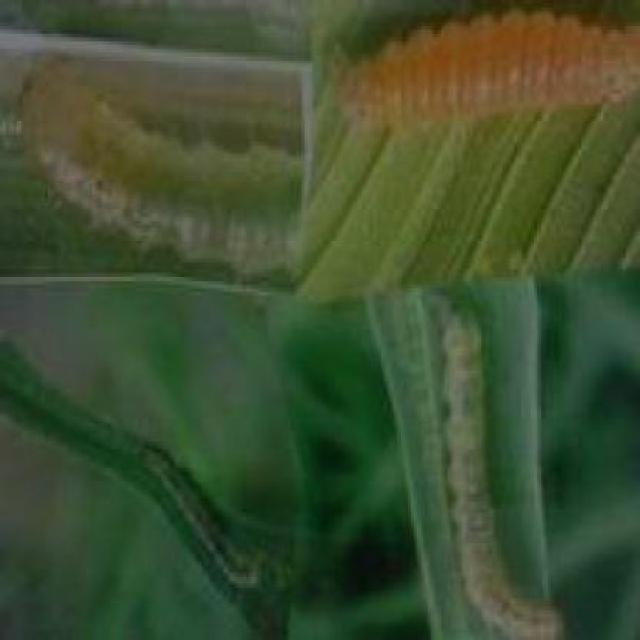leaf-folder: (21, 55, 302, 271), (406, 300, 574, 640), (332, 0, 640, 162), (120, 415, 280, 617)
